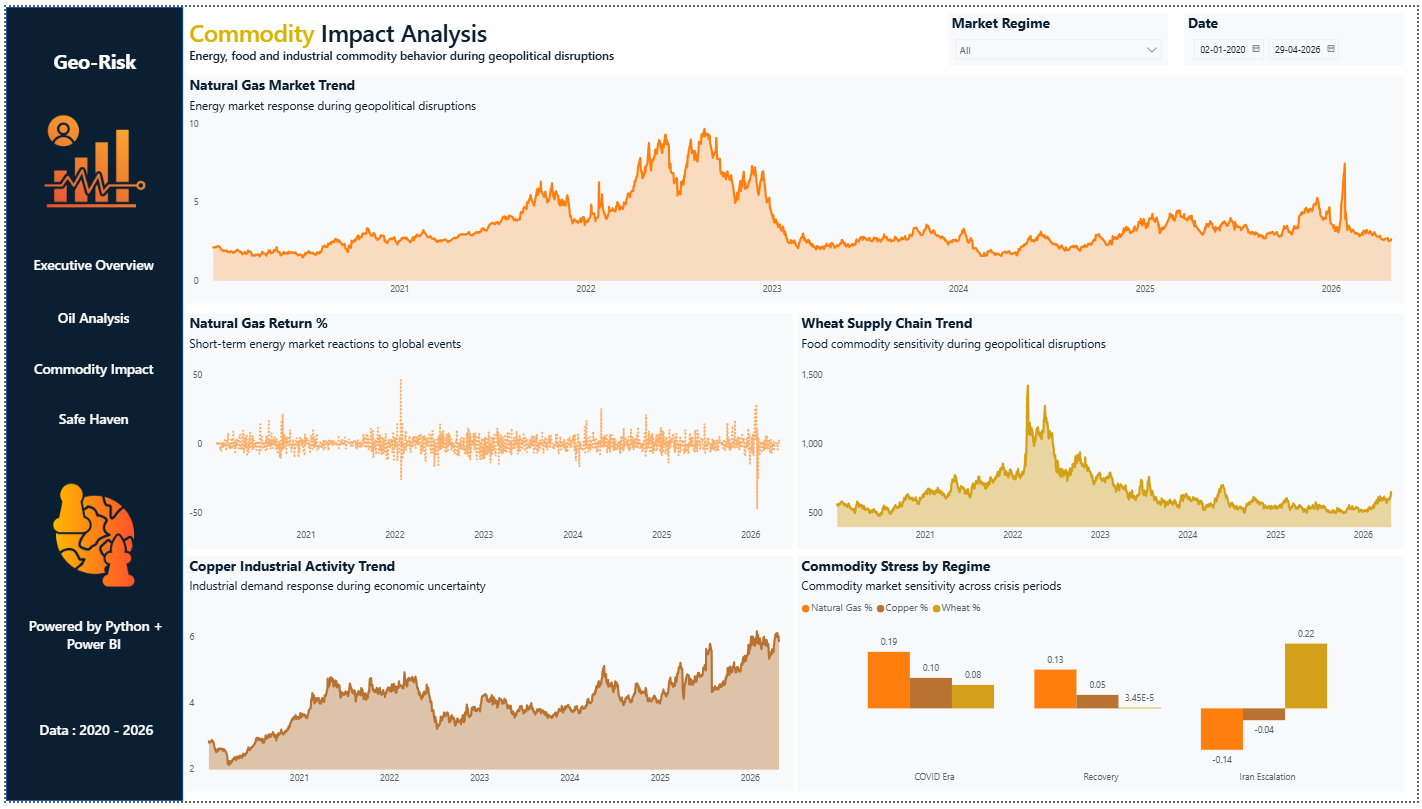

What the dashboard file says about the page in this screenshot:
{"tool":"powerbi","page":{"name":"Page 3","canvas":[1920,1080],"ordinal":2},"visuals":[{"type":"textbox","box":[244.3,8.6,731.4,84.3],"z":0},{"type":"slicer","title":"Market Regime","fields":{"Values":["master_market_features.Market_Regime"]},"box":[1281.4,8.6,300,70],"z":1000},{"type":"slicer","title":"Date","fields":{"Values":["master_market_features.Date"]},"box":[1602.9,8.6,300,70],"z":2000},{"type":"areaChart","title":"Natural Gas Market Trend","fields":{"Y":["Avg(master_market_features.NaturalGas)"],"Category":["master_market_features.Date"]},"box":[244.3,92.9,1658.6,310],"z":3000},{"type":"lineChart","title":"Natural Gas Return %","fields":{"Category":["master_market_features.Date"],"Y":["Avg(master_market_features.NaturalGas_Return)"]},"box":[244.3,417.1,825.7,320],"z":4000},{"type":"areaChart","title":"Wheat Supply Chain Trend","fields":{"Category":["master_market_features.Date"],"Y":["Avg(master_market_features.Wheat)"]},"box":[1077.1,417.1,825.7,320],"z":5000},{"type":"areaChart","title":"Copper Industrial Activity Trend","fields":{"Category":["master_market_features.Date"],"Y":["Avg(master_market_features.Copper)"]},"box":[244.3,747.1,825.7,320],"z":6000},{"type":"clusteredColumnChart","title":"Commodity Stress by Regime","fields":{"Category":["master_market_features.Market_Regime"],"Y":["Avg(master_market_features.NaturalGas_Return)","Avg(master_market_features.Copper_Return)","Avg(master_market_features.Wheat_Return)"]},"box":[1077.1,747.1,825.7,320],"z":7000},{"type":"shape","box":[0,0,241,1080],"z":7001},{"type":"textbox","box":[24.3,51.4,192.9,61.4],"z":7002},{"type":"image","box":[35.7,140,170,140],"z":7003},{"type":"actionButton","box":[28.6,330,181.4,40],"z":7004},{"type":"actionButton","box":[28.6,402.9,181.4,40],"z":7005},{"type":"actionButton","box":[28.6,471.4,181.4,40],"z":7006},{"type":"actionButton","box":[28.6,540,181.4,40],"z":7007},{"type":"image","box":[34.3,648.6,170,140],"z":7008},{"type":"textbox","box":[22.9,824.3,198.6,67.1],"z":7009},{"type":"textbox","box":[35.7,965.7,174.3,51.4],"z":7010}]}

Visuals, with their boxes in screenshot pixels (x1, y1, x2, y2), scaled from the page's 1920x1080 canvas onto the 1422x809 screenshot:
textbox: select_region(181, 6, 723, 70)
"Market Regime" slicer: select_region(949, 6, 1171, 59)
"Date" slicer: select_region(1187, 6, 1409, 59)
"Natural Gas Market Trend" areaChart: select_region(181, 70, 1409, 302)
"Natural Gas Return %" lineChart: select_region(181, 312, 792, 552)
"Wheat Supply Chain Trend" areaChart: select_region(798, 312, 1409, 552)
"Copper Industrial Activity Trend" areaChart: select_region(181, 560, 792, 799)
"Commodity Stress by Regime" clusteredColumnChart: select_region(798, 560, 1409, 799)
shape: select_region(0, 0, 178, 808)
textbox: select_region(18, 39, 161, 84)
image: select_region(26, 105, 152, 210)
actionButton: select_region(21, 247, 156, 277)
actionButton: select_region(21, 302, 156, 332)
actionButton: select_region(21, 353, 156, 383)
actionButton: select_region(21, 404, 156, 434)
image: select_region(25, 486, 151, 591)
textbox: select_region(17, 617, 164, 668)
textbox: select_region(26, 723, 156, 762)
